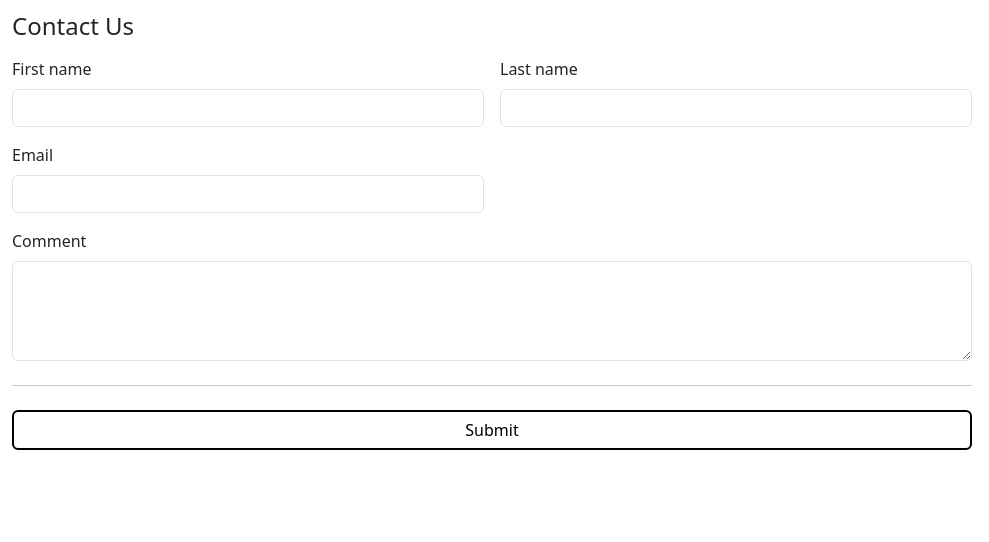
it: ContactUs Form › displays validation errors for empty fields
Submit the form without filling out any fields
Click the button "Submit" at (492, 430), box x1=12 y1=410 x2=972 y2=450
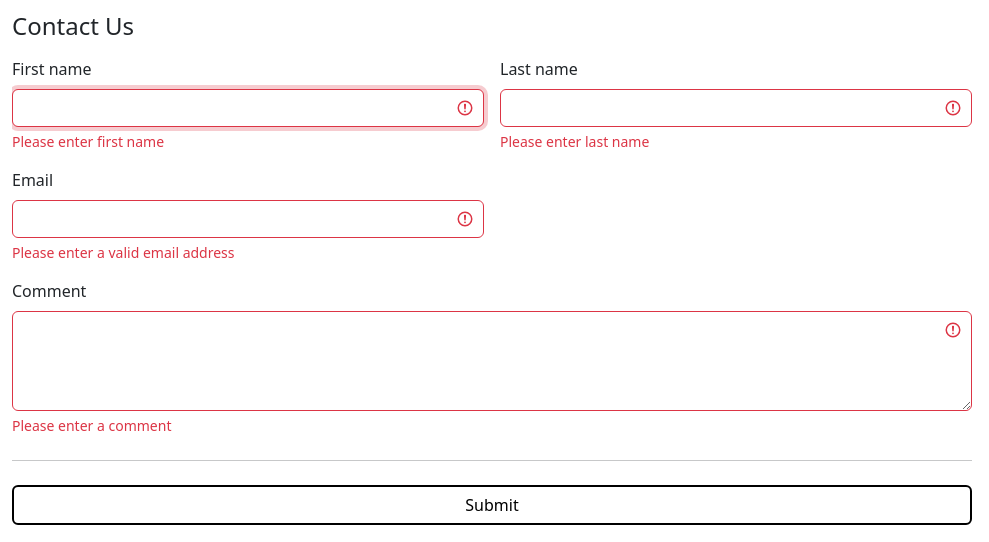
Result: the text "Please enter first name" is shown at x1=12 y1=132 x2=164 y2=151
Result: the text "Please enter last name" is shown at x1=500 y1=132 x2=649 y2=151
Result: the text "Please enter a valid email address" is shown at x1=12 y1=243 x2=234 y2=262
